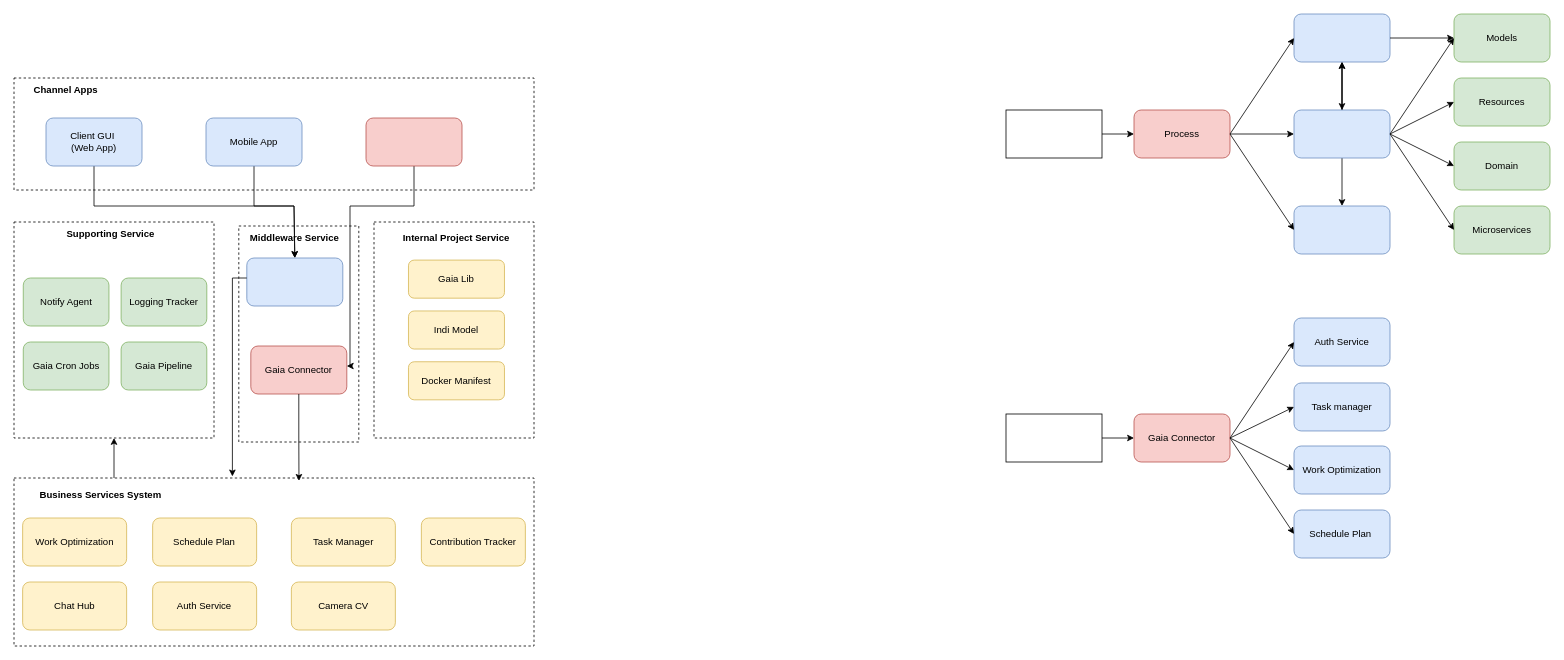
Image size: 1564x660. Some labels were removed from this diagram. Each missing label, with the box of its shape:
Ability: (1293, 109, 1390, 158)
GAIA: (365, 117, 462, 166)
Gaia Bot: (1005, 413, 1102, 462)
Infrastrucutre: (1293, 13, 1390, 62)
Kernel: (1293, 205, 1390, 254)
Middleware Loader: (246, 257, 343, 306)
User Input: (1005, 109, 1102, 158)
